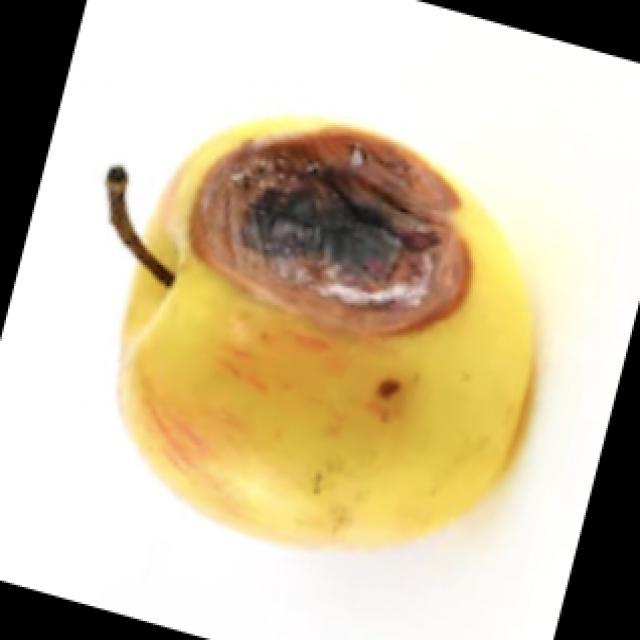Rotten: (137, 106, 523, 556)
